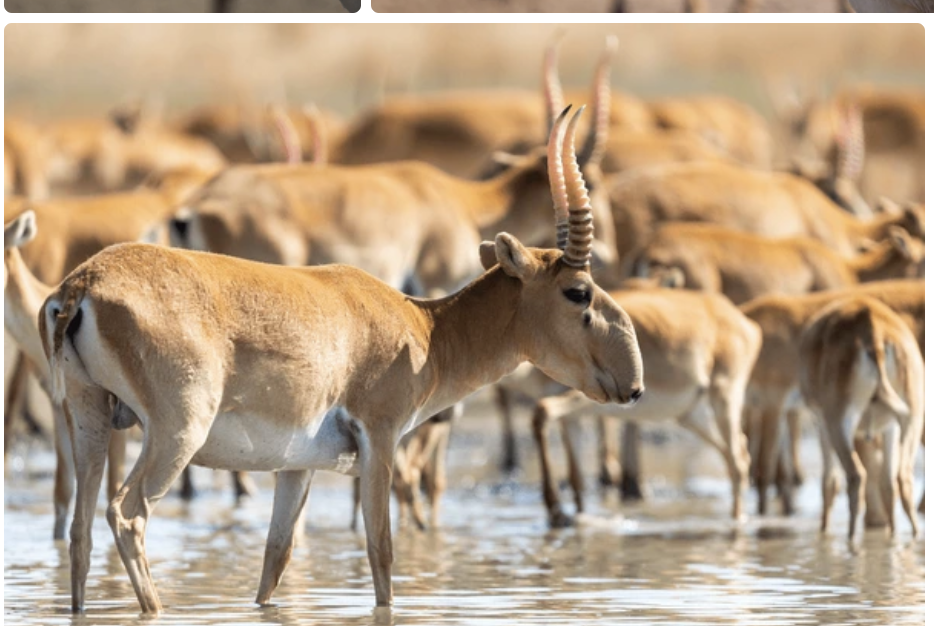saiga: (51, 106, 647, 626)
